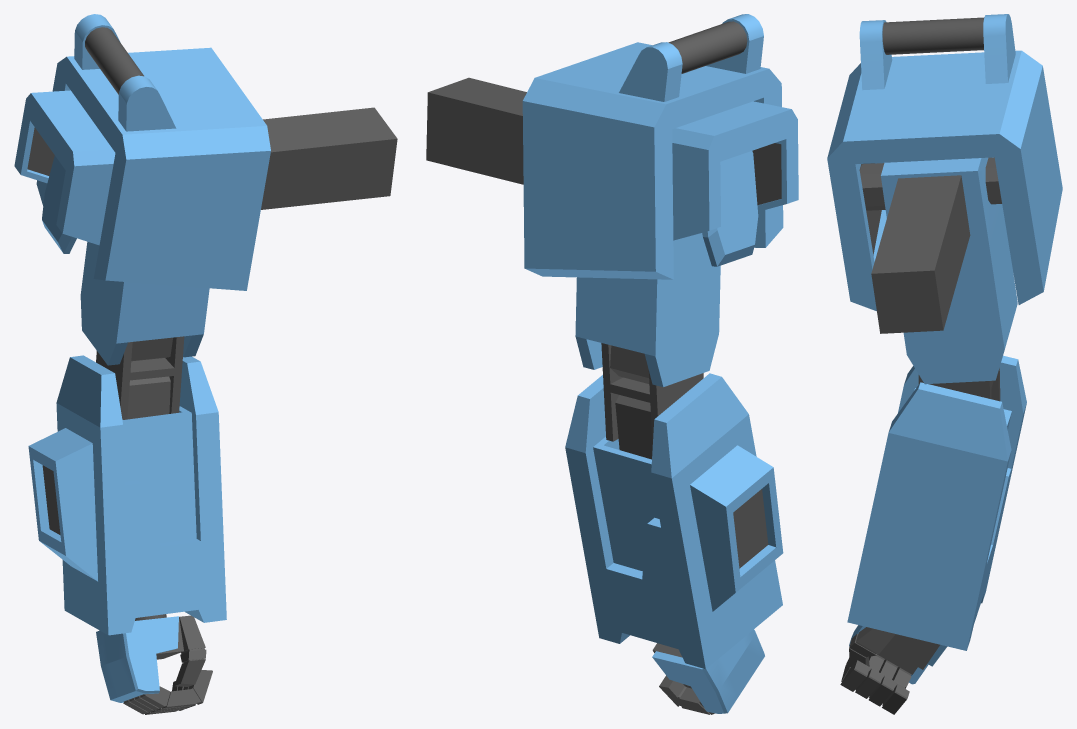
Rendered from RightArm.fbx.
3 renders of one model, left to right at view 1: azimuth 30°, elevation 25°; view 2: azimuth 150°, elevation 25°; view 3: azimuth 270°, elevation 25°, orthographic. The views are drawn at different scales.
Visible parts, largest first — view 1: RightArm2; view 2: RightArm2; view 3: RightArm2.
Boxes of the visible parts, box(x1,y1,x2,y2) form: RightArm2: box(14, 14, 397, 714); RightArm2: box(426, 14, 798, 714); RightArm2: box(827, 14, 1062, 714).
Bounding box in the file's own units: 5.91 × 11.39 × 3.56.
